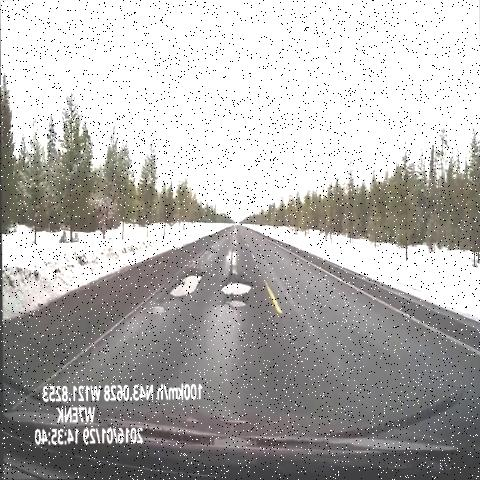pothole: (212, 276, 259, 319), (166, 261, 210, 304), (142, 298, 173, 326), (229, 222, 242, 241)
